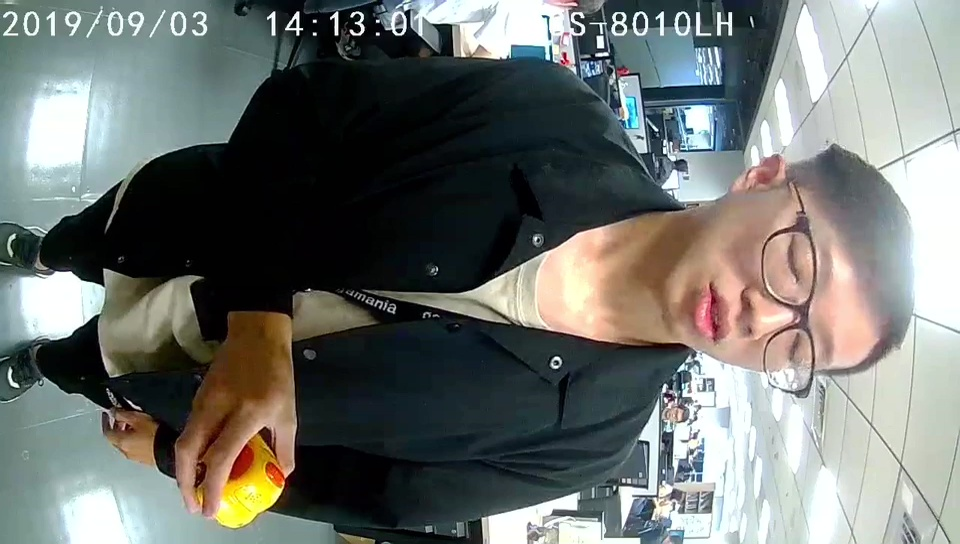car: (223, 430, 284, 529)
